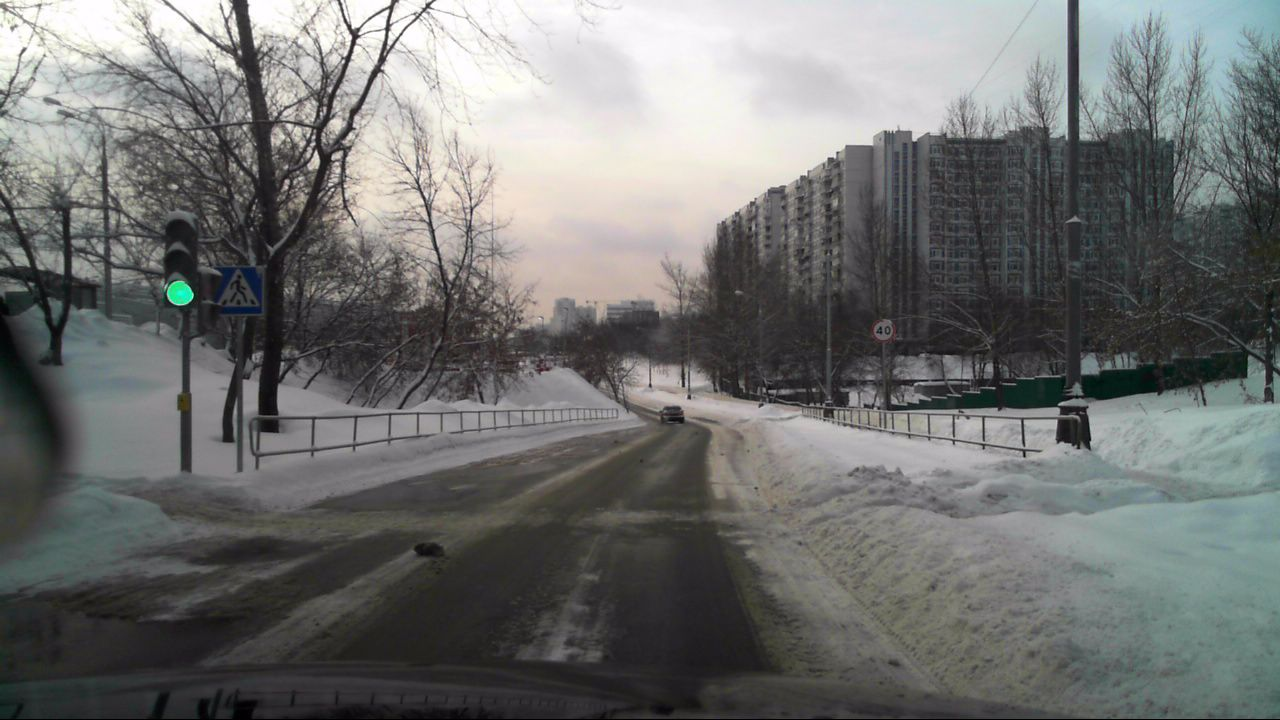speed_warning_40: (872, 318, 896, 343)
